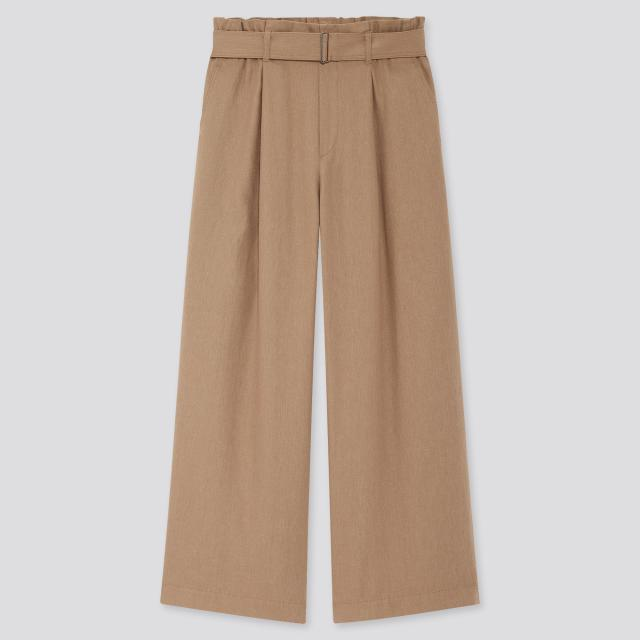long-pants: (158, 17, 482, 628)
